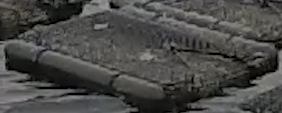bag: (5, 7, 277, 104)
